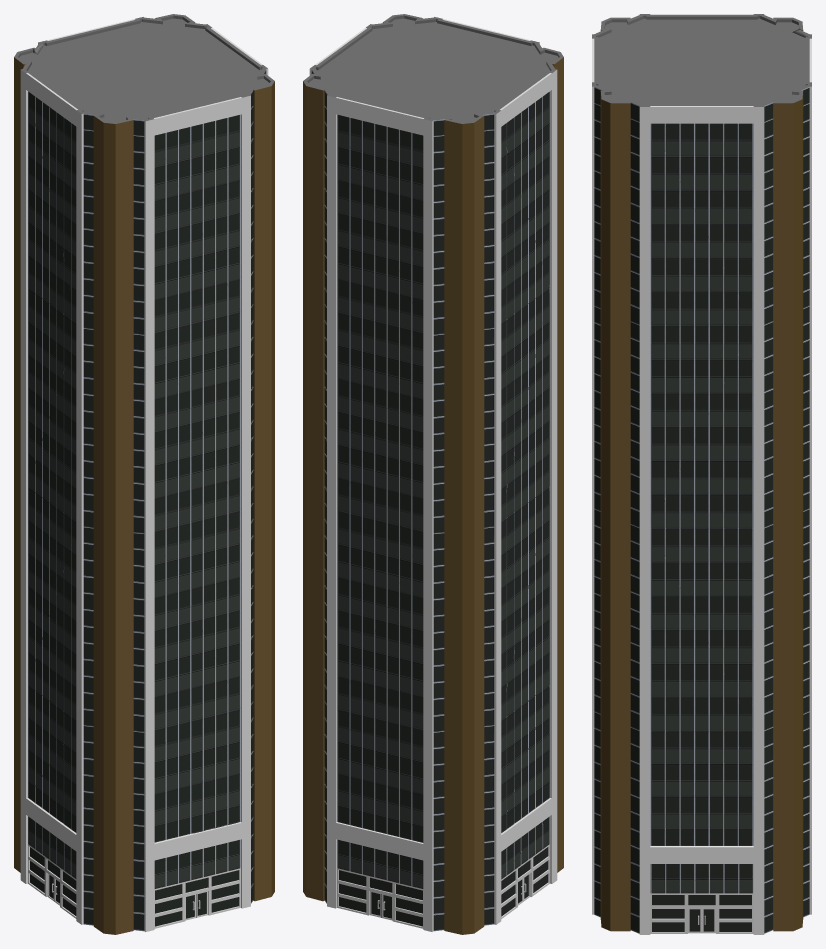
The picture shows the model from 3 angles, left to right: view 1: azimuth 30°, elevation 25°; view 2: azimuth 150°, elevation 25°; view 3: azimuth 270°, elevation 25°; orthographic projection. The views are drawn at different scales.
Parts seen in each view (by area): view 1: EC-06; view 2: EC-06; view 3: EC-06.
Part boxes in pixels (x1=…): EC-06: x1=14, y1=14, x2=274, y2=934; EC-06: x1=303, y1=14, x2=563, y2=934; EC-06: x1=592, y1=14, x2=811, y2=934.
Size of what is drawn, in the model's own units: 18.17 by 75.48 by 18.16.
